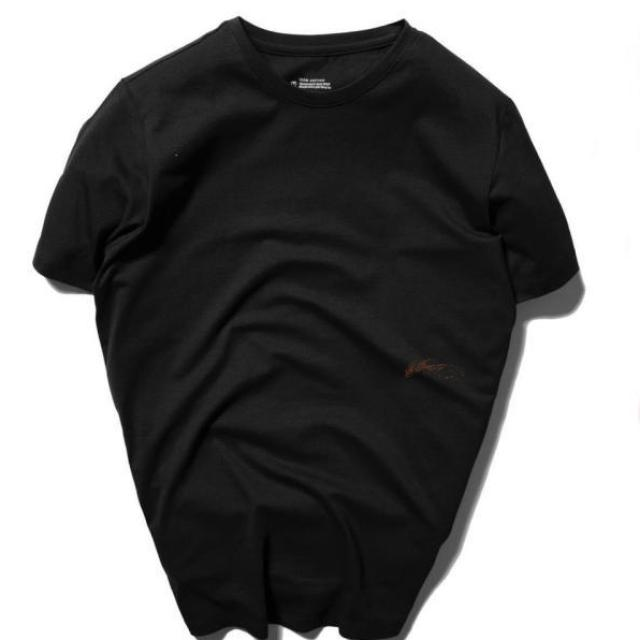stain: (394, 344, 470, 386)
